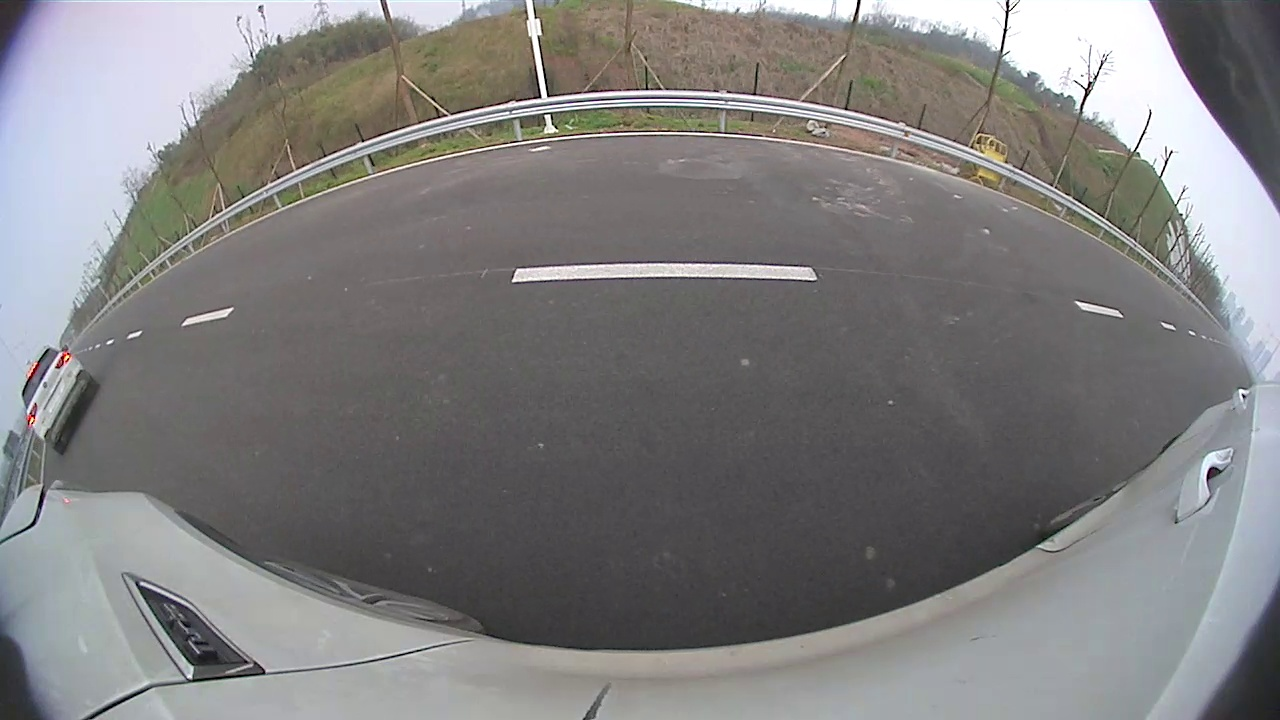car: (20, 346, 100, 455)
